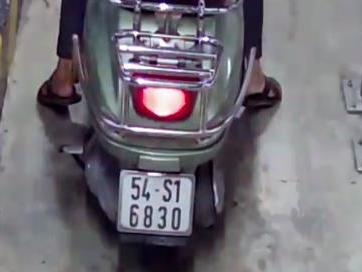num_plate: (120, 169, 195, 236)
